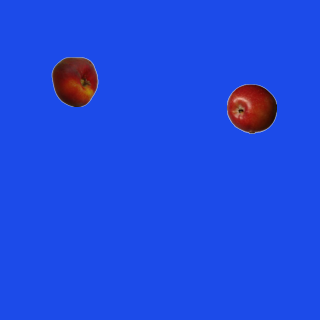Apple Braeburn: (226, 83, 276, 133)
Nectarine Flat: (49, 56, 99, 106)
